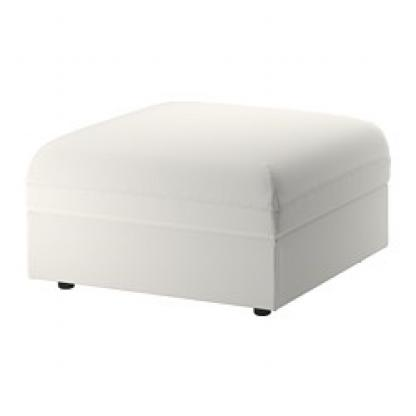Sofa: (21, 87, 392, 321)
